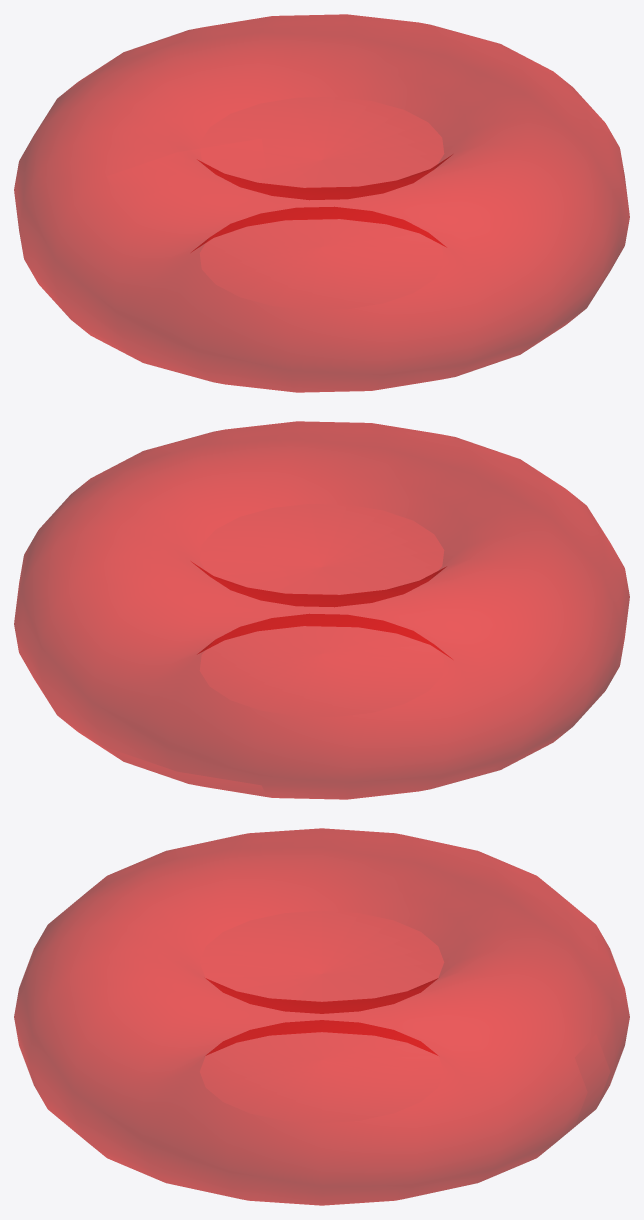
The model's file is RedBloodCell.fbx.
The picture shows the model from 3 angles, top to bottom: view 1: azimuth 30°, elevation 25°; view 2: azimuth 150°, elevation 25°; view 3: azimuth 270°, elevation 25°; orthographic projection.
Visible parts, largest first — view 1: pTorus1; view 2: pTorus1; view 3: pTorus1.
Boxes of the visible parts, left/top/right/bottom form: pTorus1: left=14, top=14, right=629, bottom=392; pTorus1: left=14, top=421, right=629, bottom=799; pTorus1: left=14, top=828, right=629, bottom=1205.
Bounding box in the file's own units: 3 × 1 × 3.
